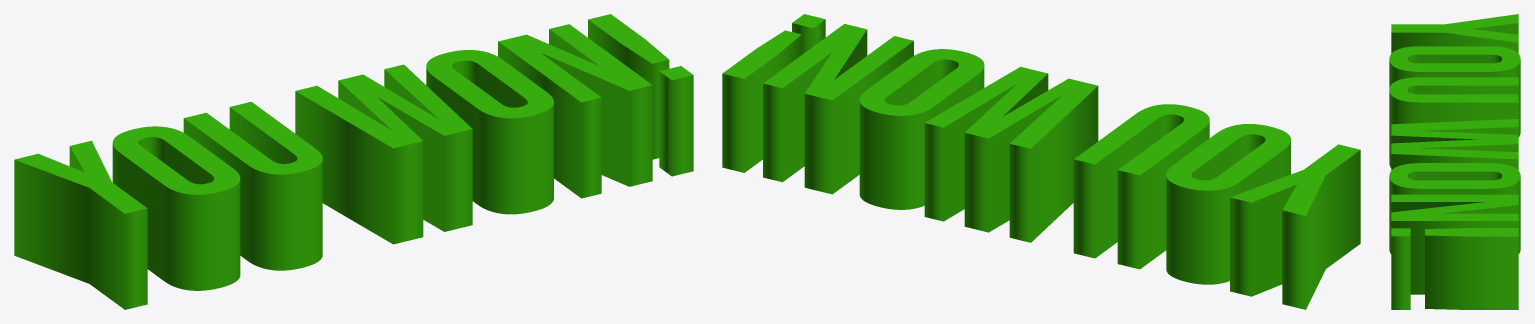
Rendered from text_won.fbx.
The picture shows the model from 3 angles, left to right: view 1: azimuth 30°, elevation 25°; view 2: azimuth 150°, elevation 25°; view 3: azimuth 270°, elevation 25°; orthographic projection. The views are drawn at different scales.
Parts seen in each view (by area): view 1: Text; view 2: Text; view 3: Text.
Part boxes in pixels (left/top/right/bottom): Text: left=14, top=14, right=693, bottom=309; Text: left=722, top=14, right=1360, bottom=309; Text: left=1389, top=14, right=1520, bottom=309.
Bounding box in the file's own units: 260 × 40 × 64.75.
